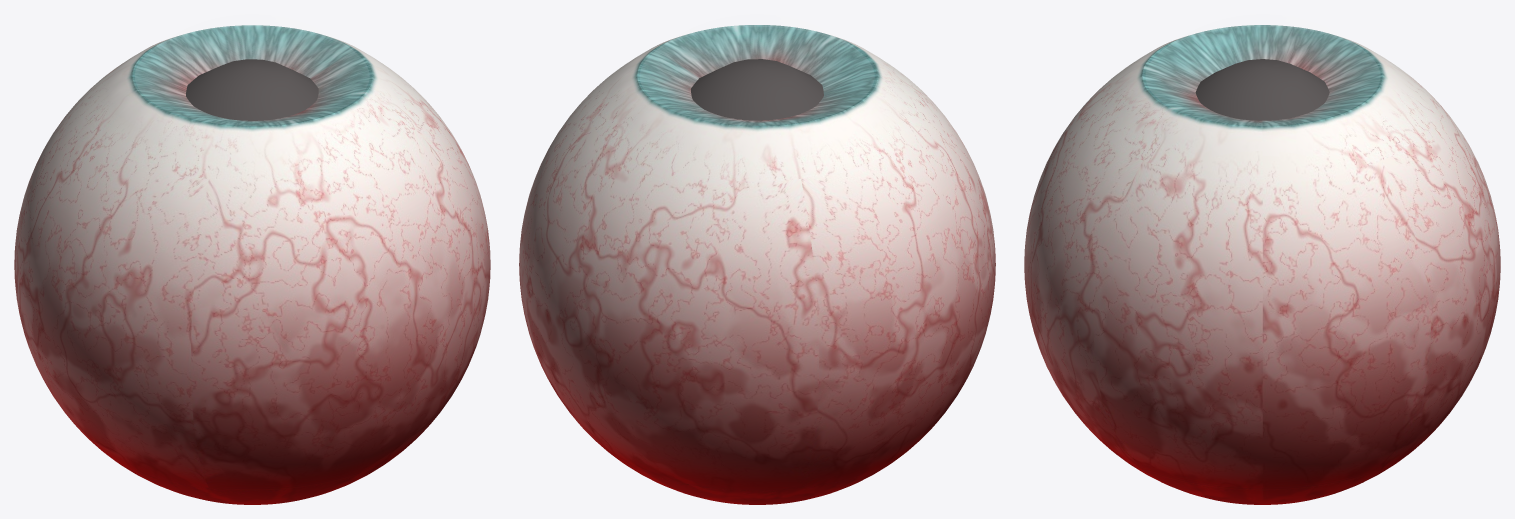
File: eye2.glb
3 views of the same model, side by side, from view 1: azimuth 30°, elevation 25°; view 2: azimuth 150°, elevation 25°; view 3: azimuth 270°, elevation 25° (orthographic).
Visible parts, largest first — view 1: EYEBALL, Sphere, CORNE; view 2: EYEBALL, Sphere, CORNE; view 3: EYEBALL, Sphere, CORNE.
Boxes of the visible parts, <box> form: EYEBALL: <box>14,25,490,504</box>; Sphere: <box>186,59,318,120</box>; CORNE: <box>157,14,351,49</box>; EYEBALL: <box>519,25,995,504</box>; Sphere: <box>691,59,823,120</box>; CORNE: <box>659,14,856,49</box>; EYEBALL: <box>1024,25,1500,504</box>; Sphere: <box>1195,59,1329,120</box>; CORNE: <box>1165,14,1359,48</box>.
Bounding box in the file's own units: 23.49 × 24.85 × 23.49.
3 materials, 1 textured.
